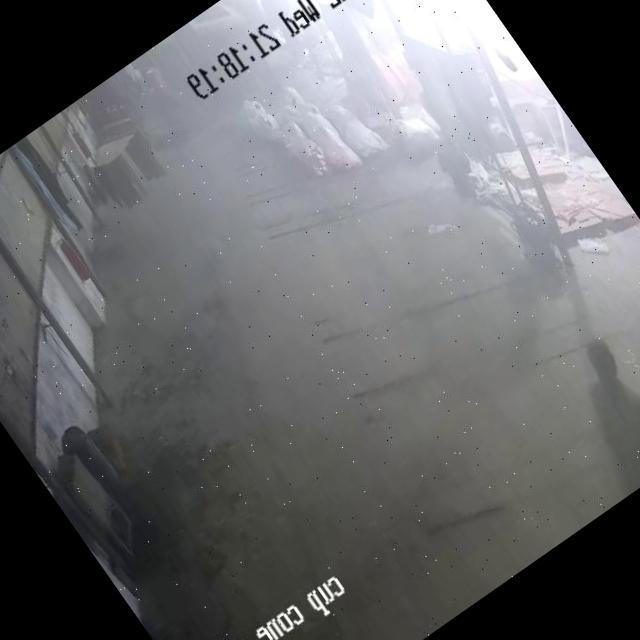person: (543, 331, 640, 494)
